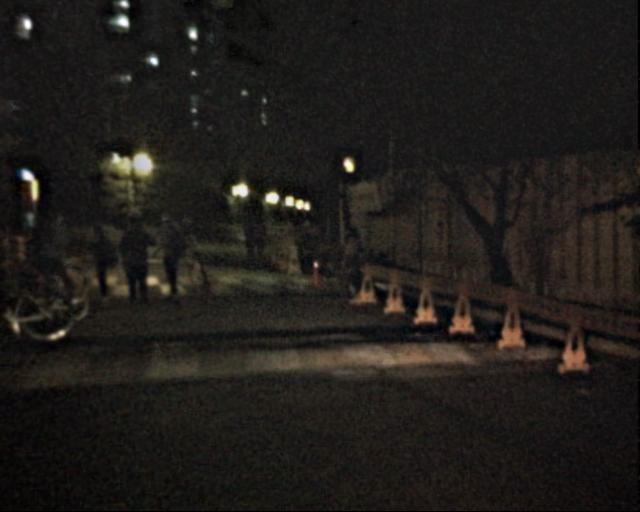person: (38, 210, 76, 303), (149, 208, 186, 299), (121, 211, 156, 296), (332, 223, 366, 306), (85, 215, 117, 294), (172, 208, 200, 277), (238, 216, 256, 260), (249, 217, 266, 258)
